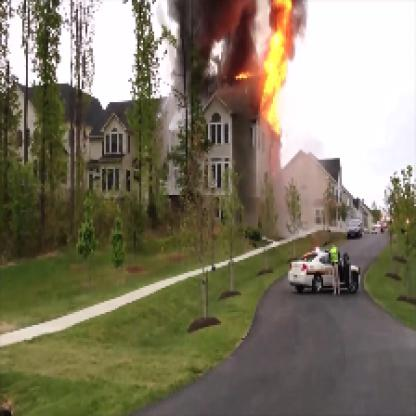Fire: (226, 2, 314, 130)
Smoke: (167, 2, 268, 102)
